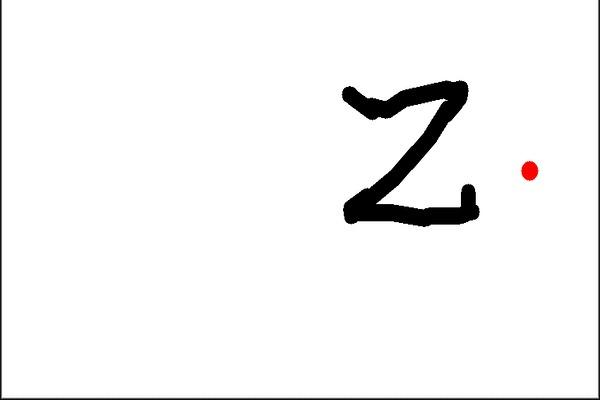Z: (334, 71, 485, 228)
